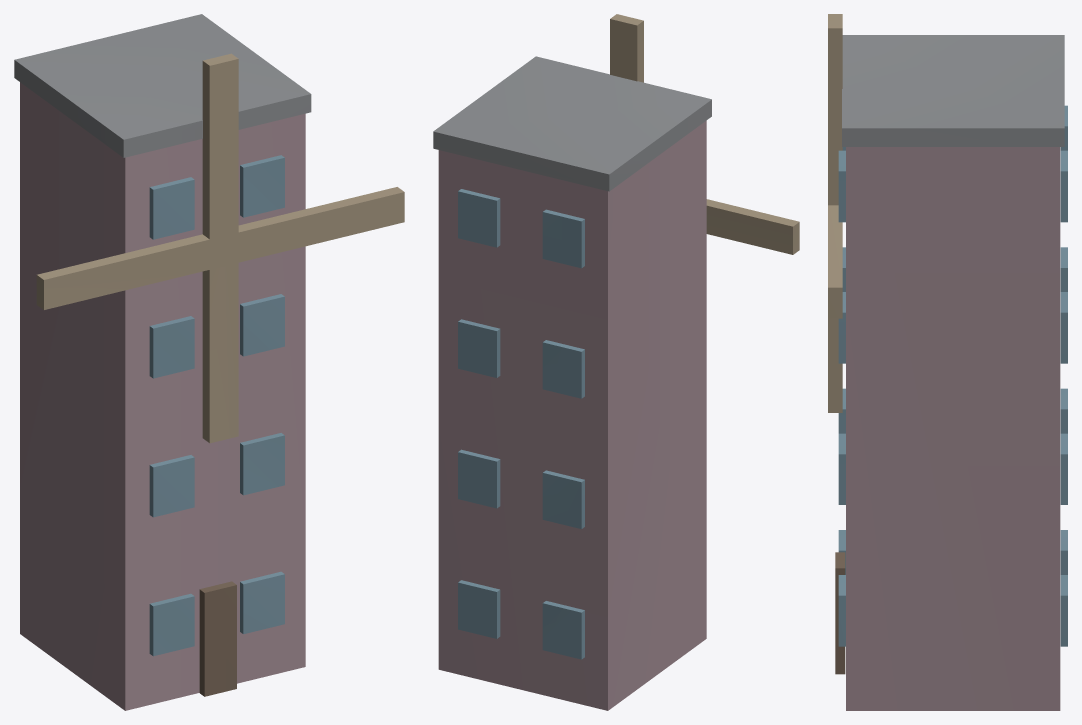
The model's file is windmill-00.glb.
3 views of the same model, side by side, from view 1: azimuth 30°, elevation 25°; view 2: azimuth 150°, elevation 25°; view 3: azimuth 270°, elevation 25° (orthographic). The views are drawn at different scales.
Visible parts, largest first — view 1: world; view 2: world; view 3: world.
Part boxes in pixels (left/top/right/bottom): world: left=14, top=14, right=404, bottom=710; world: left=433, top=14, right=799, bottom=710; world: left=828, top=14, right=1067, bottom=710.
Size of the model in its own units: 1.45 by 2.44 by 0.8207.
